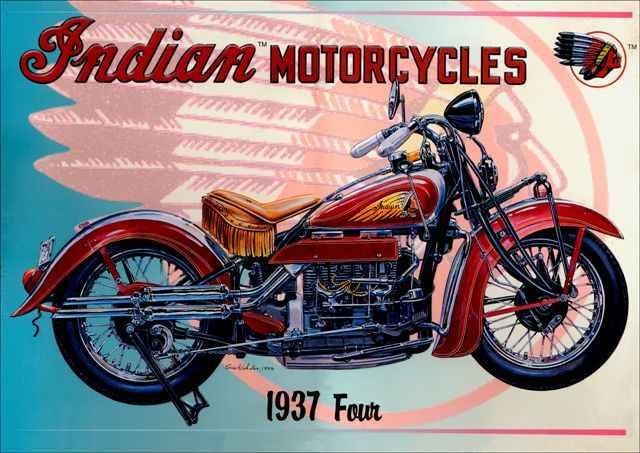Motorcycle: (44, 88, 627, 388)
